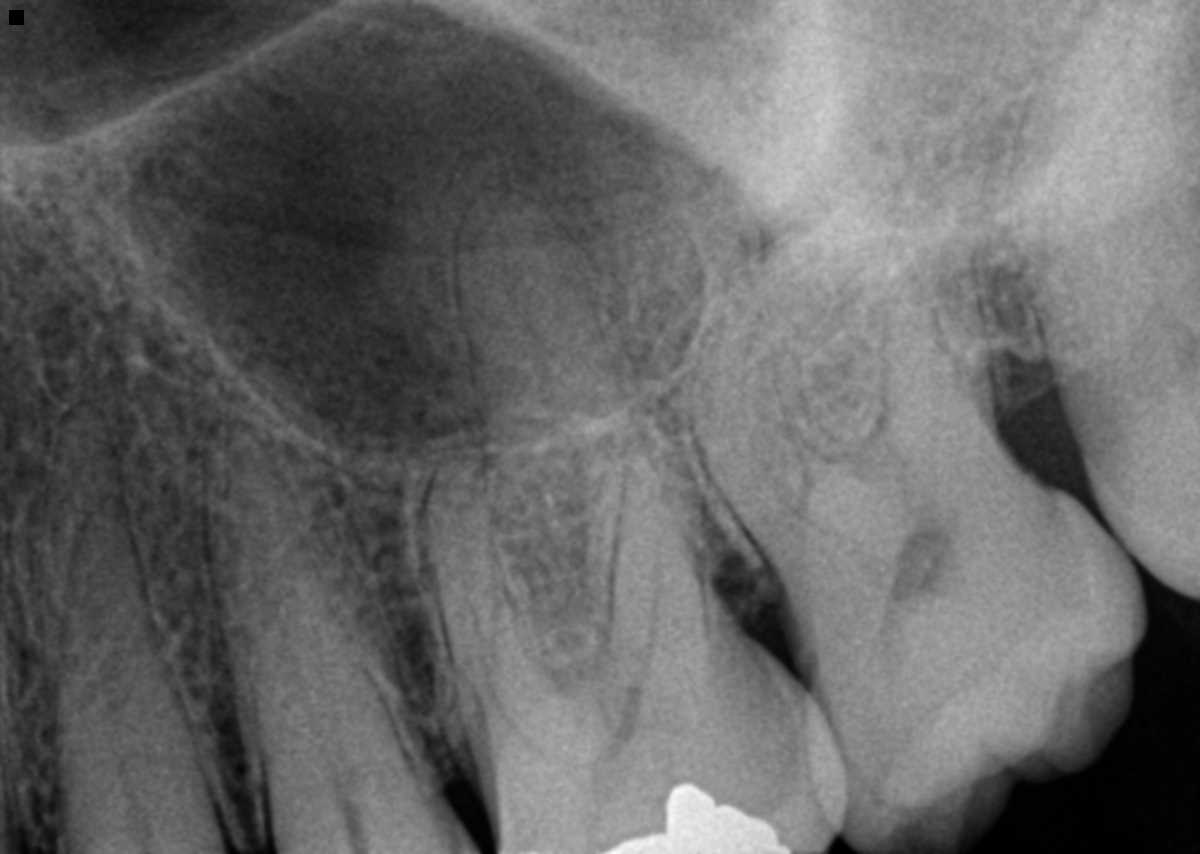Distal Canal: (635, 535, 664, 667)
Distal Root: (879, 166, 1000, 452), (603, 422, 708, 646)
Main Root: (203, 423, 424, 798), (1007, 0, 1200, 364), (53, 499, 227, 844)
Mesial Canal: (50, 408, 212, 785), (754, 414, 859, 555)
Mesial Root: (691, 254, 864, 574), (423, 457, 553, 726)
Palatal Canal: (495, 222, 562, 419)
Palatal Root: (459, 187, 719, 690), (746, 108, 1010, 589)
